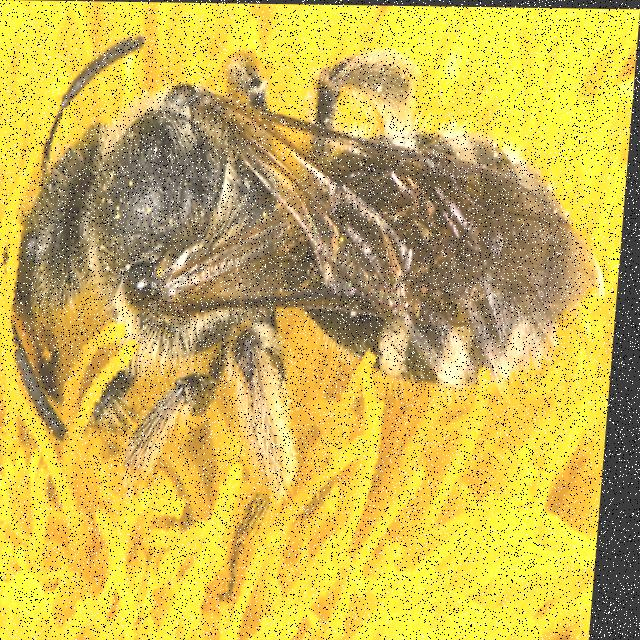Lasioglossum: (12, 17, 613, 440)
